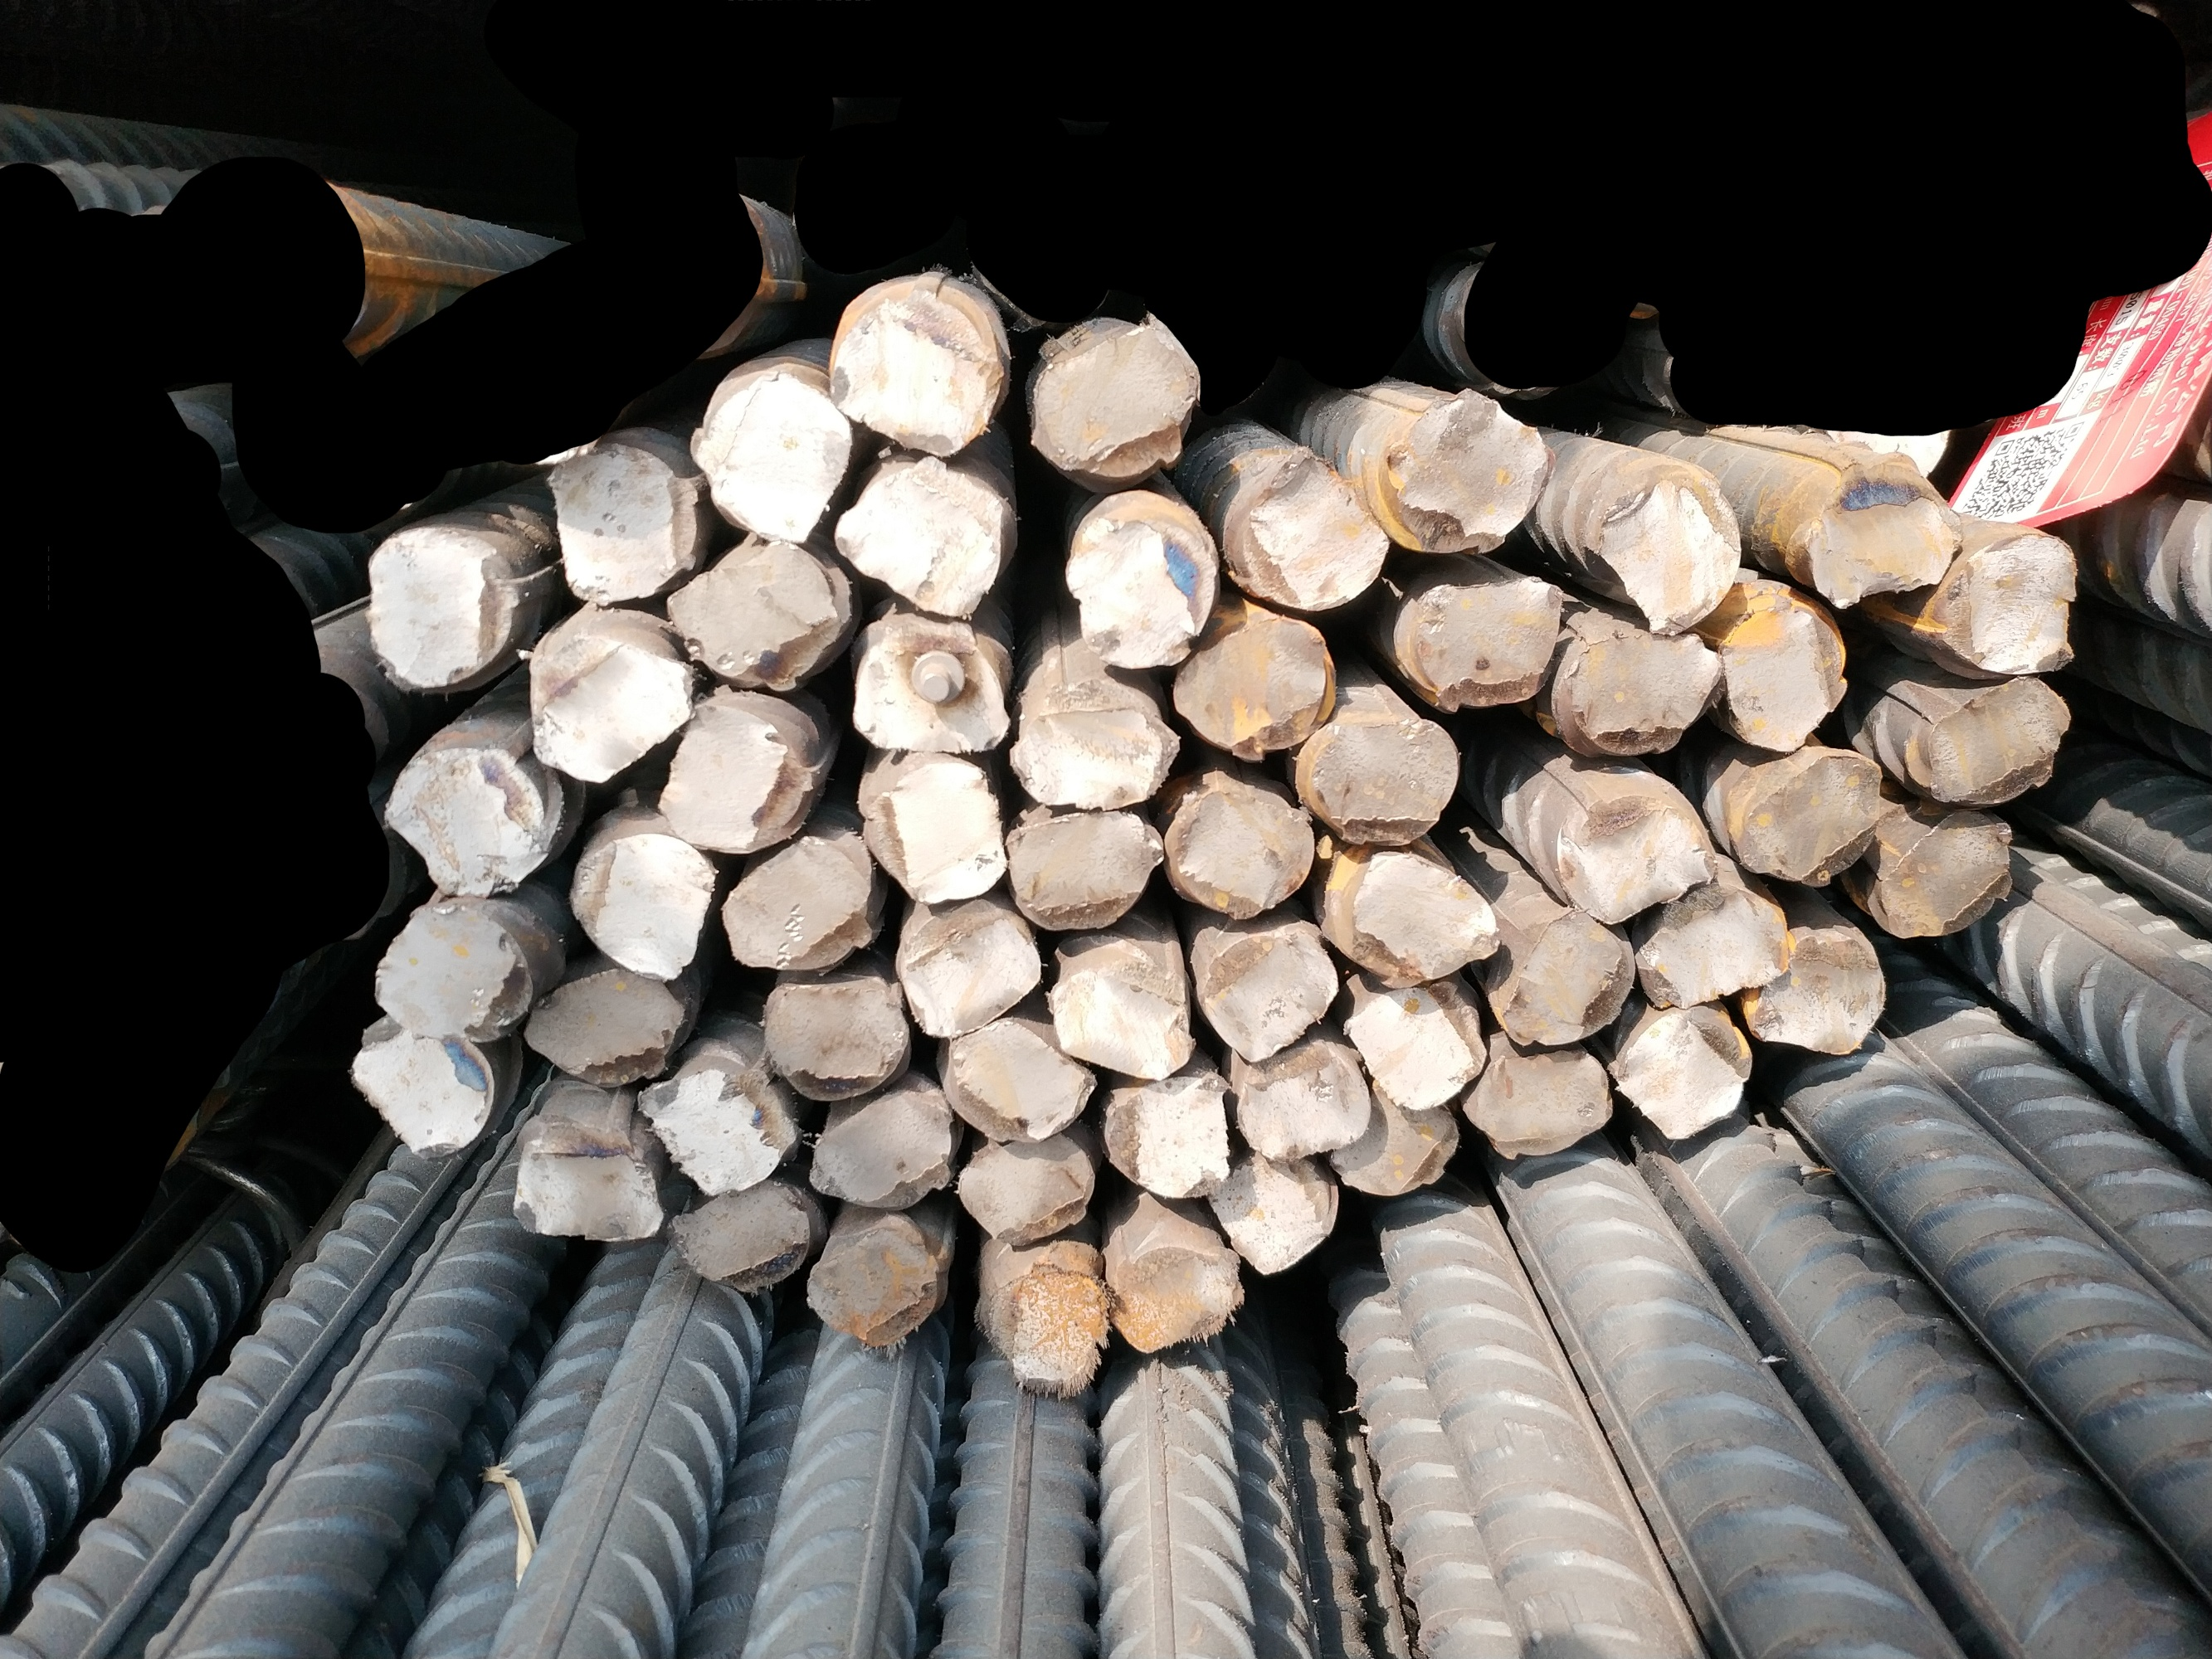rebar: (826, 284, 1006, 460), (831, 448, 1011, 620), (664, 530, 847, 697), (690, 361, 854, 545), (359, 523, 525, 697), (378, 741, 554, 904), (1586, 457, 1745, 638), (1222, 451, 1394, 617), (1384, 387, 1553, 554), (525, 624, 695, 784), (1028, 315, 1194, 479), (547, 437, 704, 608), (1170, 612, 1342, 767), (1795, 455, 1964, 610), (1067, 512, 1222, 678), (657, 699, 819, 856), (852, 746, 1011, 904), (718, 826, 880, 979), (371, 899, 537, 1046), (568, 829, 723, 985), (1300, 709, 1468, 852), (1346, 847, 1506, 993), (1164, 779, 1323, 925), (845, 617, 1013, 755), (1633, 873, 1795, 1012), (342, 1021, 497, 1164), (1412, 570, 1567, 713), (631, 1070, 798, 1202), (1607, 1002, 1757, 1148), (1560, 789, 1720, 925), (1719, 592, 1851, 756), (1004, 807, 1166, 939), (894, 899, 1048, 1039), (1937, 530, 2081, 676), (1192, 925, 1342, 1065), (1565, 633, 1724, 763), (1342, 976, 1490, 1115), (514, 969, 683, 1091), (1923, 673, 2073, 807), (760, 976, 917, 1103), (1872, 803, 2015, 943), (1501, 906, 1639, 1051), (941, 1016, 1100, 1141), (1738, 751, 1884, 887), (1044, 960, 1204, 1084), (509, 1131, 671, 1253), (805, 1215, 950, 1349), (1468, 1039, 1618, 1164), (1745, 931, 1890, 1060), (805, 1089, 955, 1213), (1100, 1066, 1232, 1206), (978, 1258, 1112, 1394), (1008, 708, 1182, 812), (1231, 1040, 1377, 1162), (953, 1127, 1096, 1248), (1208, 1148, 1339, 1277), (671, 1180, 812, 1298), (1327, 1079, 1462, 1201), (1105, 1243, 1246, 1356)
